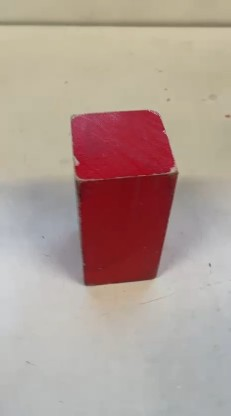red: (69, 105, 195, 277)
